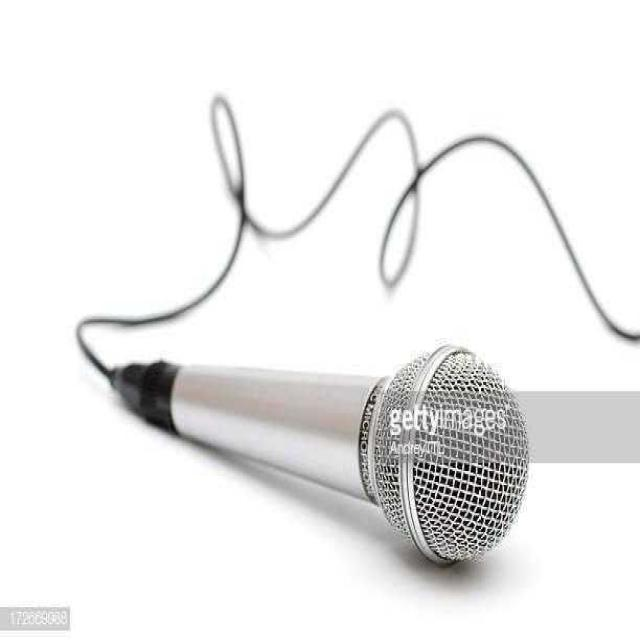microphone: (116, 342, 535, 584)
